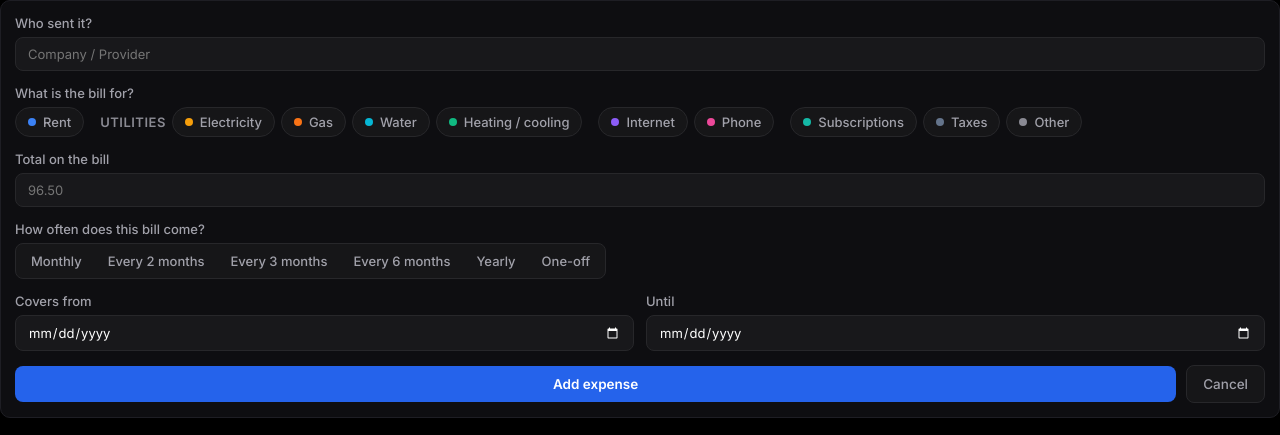
Test: BillEditor for a new bill › moves on to the cadence that fits when the dates outgrow the one that was picked
Step 1. Click the radio button labelled "Monthly" → (56, 261), box [31,253,82,269]
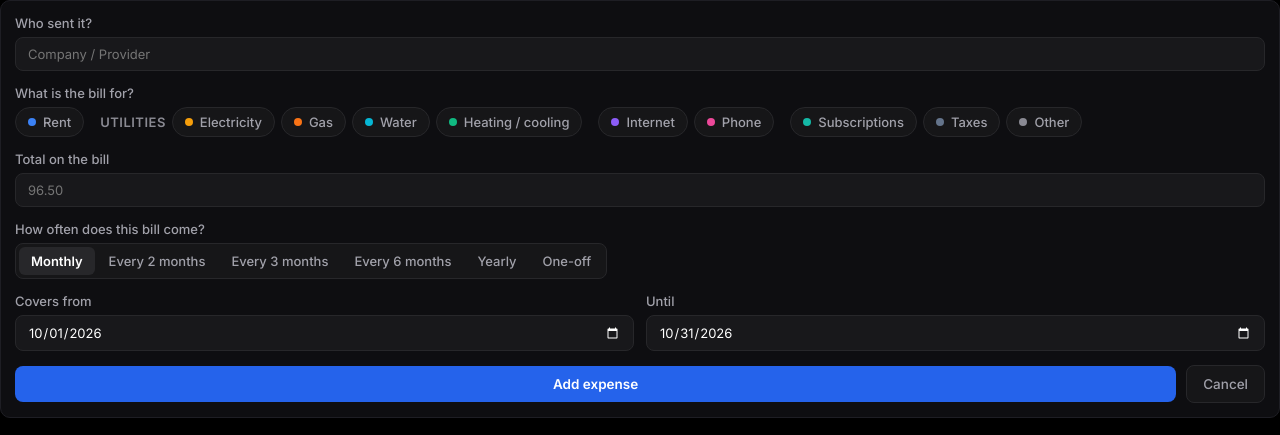
Step 2. Type "2026-08-01" into the date field labelled "Covers from" → (324, 333), box [15,315,634,351]
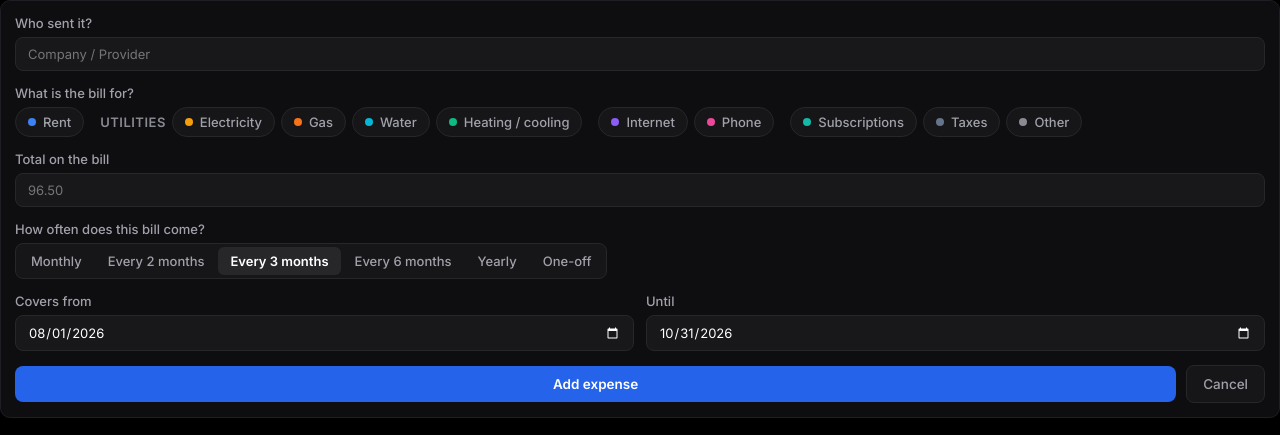
Now the radio button labelled "Every 3 months" is checked, box [218,247,341,275]
